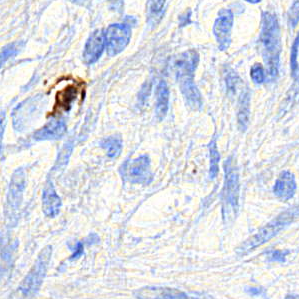Lymphocyte: (43, 74, 87, 115)
